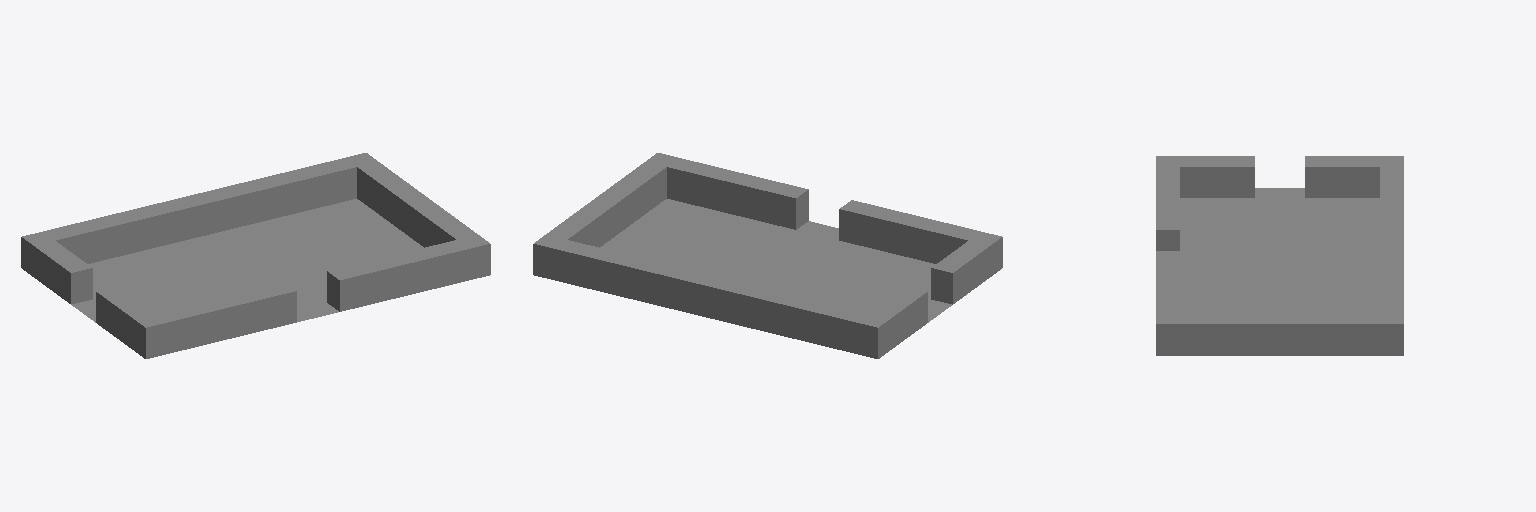
File: Room3x7.obj
3 views of the same model, side by side, from view 1: azimuth 30°, elevation 25°; view 2: azimuth 150°, elevation 25°; view 3: azimuth 270°, elevation 25° (orthographic).
Visible parts, largest first — view 1: room3x7, collision; view 2: room3x7, collision; view 3: room3x7, collision.
Boxes of the visible parts, x1,y1,x2,y2 form: room3x7: [21, 153, 490, 358]; collision: [21, 153, 490, 358]; room3x7: [533, 153, 1002, 358]; collision: [533, 153, 1002, 358]; room3x7: [1156, 156, 1403, 355]; collision: [1156, 156, 1403, 355].
Bounding box in the file's own units: 80 × 7 × 50.